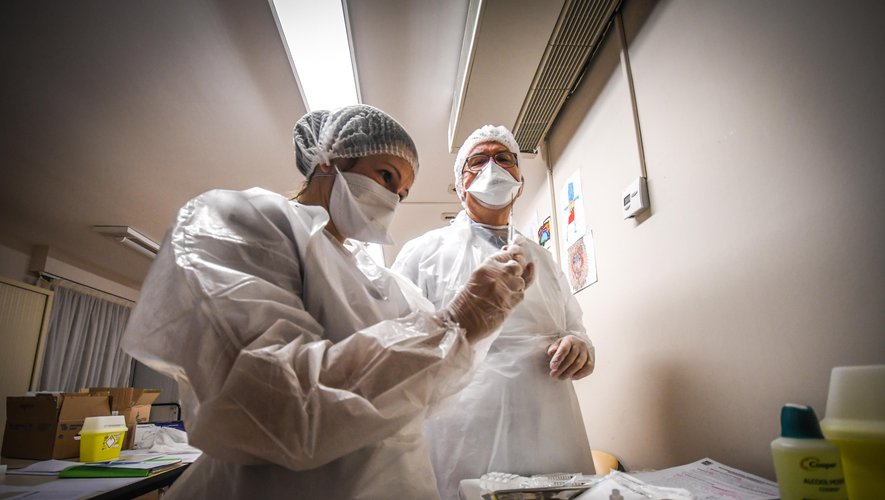with_mask: (330, 156, 411, 251), (460, 151, 529, 212)
